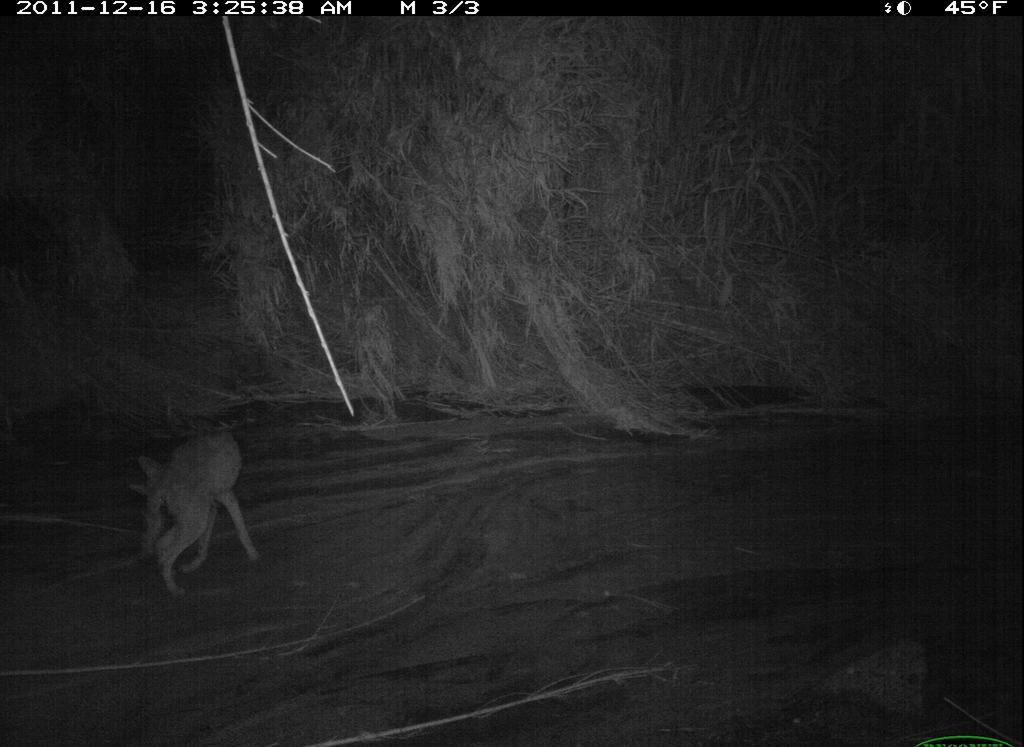coyote: (122, 422, 265, 602)
